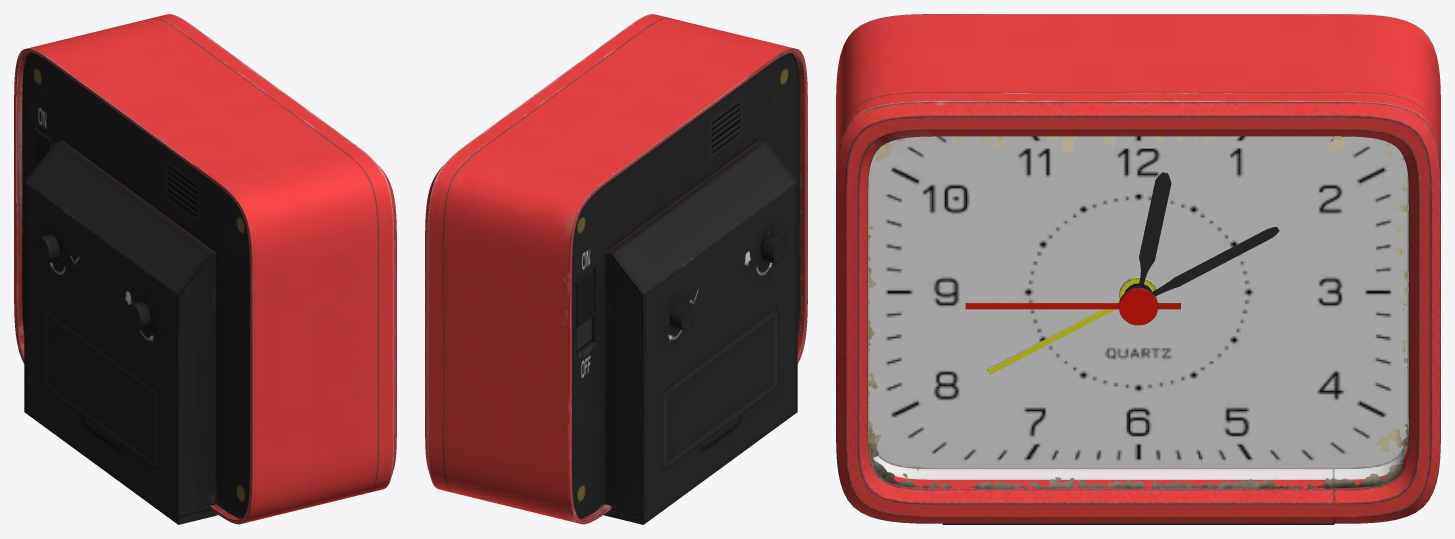
File: rectangular_quartz_clock-opt.glb
The picture shows the model from 3 angles, left to right: view 1: azimuth 30°, elevation 25°; view 2: azimuth 150°, elevation 25°; view 3: azimuth 270°, elevation 25°; orthographic projection. The views are drawn at different scales.
Parts seen in each view (by area): view 1: AlarmArm_QuartzClock_0; view 2: AlarmArm_QuartzClock_0; view 3: AlarmArm_QuartzClock_0, SeecondArm.
Part boxes in pixels (box(x1,y1,x2,y2)): AlarmArm_QuartzClock_0: box(14, 14, 396, 524); AlarmArm_QuartzClock_0: box(425, 14, 807, 524); AlarmArm_QuartzClock_0: box(836, 14, 1440, 524); SeecondArm: box(965, 288, 1180, 325).
Bounding box in the file's own units: 0.0595 × 0.0974 × 0.1235.
Materials: 1 (1 with a texture image).
